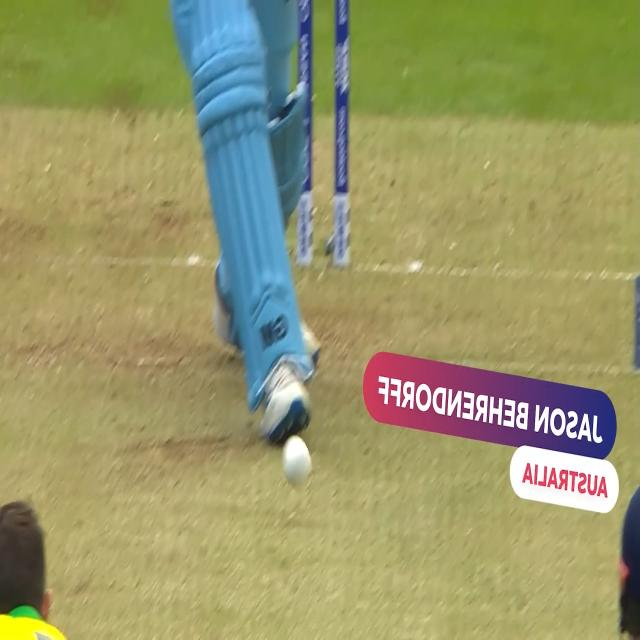ball: (277, 434, 315, 497)
